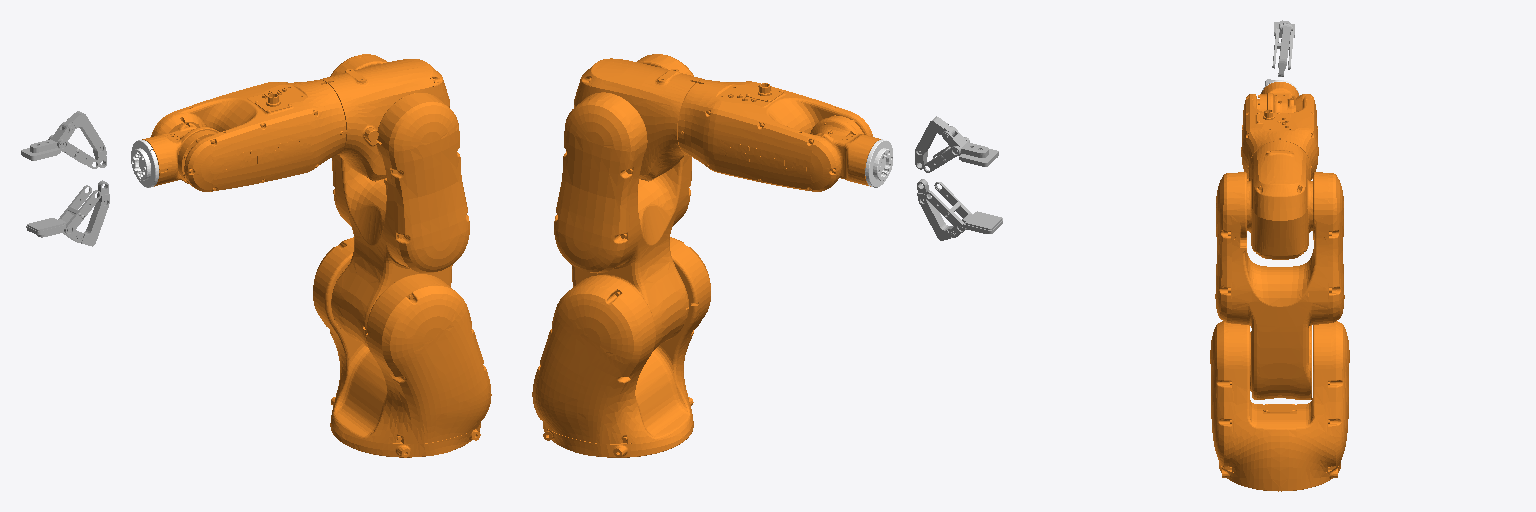
--- Render facts (derived) ---
3 views of the same robot in one strip: view 1: azimuth 30°, elevation 25°; view 2: azimuth 150°, elevation 25°; view 3: azimuth 270°, elevation 25° (orthographic).
Robot: LR4_R560 — 16 links, 15 joints (12 revolute, 3 fixed); root link robot_base; default pose: all joints at 0.
Visible links, largest first — view 1: LR4_R560_link2_respondable, LR4_R560_link3_respondable, LR4_R560_link5_respondable, LR4_R560_link4_respondable, LR4_R560_link6_respondable, LR4_R560_link7_respondable, left_inner_knuckle_respondable, left_outer_knuckle_respondable, right_finger_respondable, right_outer_knuckle_respondable, left_finger_respondable; view 2: LR4_R560_link2_respondable, LR4_R560_link3_respondable, LR4_R560_link5_respondable, LR4_R560_link4_respondable, LR4_R560_link6_respondable, LR4_R560_link7_respondable, right_finger_respondable, left_inner_knuckle_respondable, left_outer_knuckle_respondable, right_outer_knuckle_respondable, left_finger_respondable; view 3: LR4_R560_link3_respondable, LR4_R560_link2_respondable, LR4_R560_link4_respondable, LR4_R560_link5_respondable, LR4_R560_link6_respondable.
Link boxes in pixels (<box>): LR4_R560_link2_respondable: <box>313,237,491,457</box>; LR4_R560_link3_respondable: <box>330,54,469,347</box>; LR4_R560_link5_respondable: <box>151,80,346,191</box>; LR4_R560_link4_respondable: <box>320,59,449,181</box>; LR4_R560_link6_respondable: <box>142,123,219,186</box>; LR4_R560_link7_respondable: <box>131,140,158,187</box>; left_inner_knuckle_respondable: <box>58,185,101,234</box>; left_outer_knuckle_respondable: <box>71,180,109,246</box>; right_finger_respondable: <box>21,122,74,160</box>; right_outer_knuckle_respondable: <box>62,111,106,167</box>; left_finger_respondable: <box>26,218,82,242</box>; LR4_R560_link2_respondable: <box>532,237,710,457</box>; LR4_R560_link3_respondable: <box>554,54,693,350</box>; LR4_R560_link5_respondable: <box>678,80,872,191</box>; LR4_R560_link4_respondable: <box>574,58,704,181</box>; LR4_R560_link6_respondable: <box>810,115,880,186</box>; LR4_R560_link7_respondable: <box>865,139,892,187</box>; right_finger_respondable: <box>942,126,998,166</box>; left_inner_knuckle_respondable: <box>925,182,972,232</box>; left_outer_knuckle_respondable: <box>917,179,953,240</box>; right_outer_knuckle_respondable: <box>915,116,954,169</box>; left_finger_respondable: <box>949,211,1002,237</box>; LR4_R560_link3_respondable: <box>1215,172,1344,399</box>; LR4_R560_link2_respondable: <box>1210,321,1349,491</box>; LR4_R560_link4_respondable: <box>1247,141,1312,259</box>; LR4_R560_link5_respondable: <box>1241,94,1318,179</box>; LR4_R560_link6_respondable: <box>1258,82,1298,112</box>.
Bounding box of the posed robot: 0.6373 × 0.2109 × 0.5361 m (x, y, z).
12 mesh visuals loaded from 14 distinct referenced files (12 Collada DAE); not drawn: 2 (reference not matched to a file when rendering).

robot.urdf — LR4_R560:
<?xml version="1.0"?>
<robot name="LR4_R560">
    <link name="robot_base">
        <collision name="LR4_R560">
            <origin xyz="-0.000000 -0.000000 -0.000000" rpy="-3.141593 3.141593 -3.141593" />
            <geometry>
                <mesh filename="../meshes/linkhou_robot_base_coll_1.dae" />
            </geometry>
        </collision>
        <collision name="LR4_R560">
            <origin xyz="-0.000000 -0.000000 -0.000000" rpy="-3.141593 3.141593 -3.141593" />
            <geometry>
                <mesh filename="../meshes/linkhou_robot_base_coll_2.dae" />
            </geometry>
        </collision>
        <collision name="LR4_R560">
            <origin xyz="-0.000000 -0.000000 -0.000000" rpy="-3.141593 3.141593 -3.141593" />
            <geometry>
                <mesh filename="../meshes/linkhou_robot_base_coll_3.dae" />
            </geometry>
        </collision>
        <collision name="LR4_R560">
            <origin xyz="-0.000000 -0.000000 -0.000000" rpy="-3.141593 3.141593 -3.141593" />
            <geometry>
                <mesh filename="../meshes/linkhou_robot_base_coll_4.dae" />
            </geometry>
        </collision>
        <collision name="LR4_R560">
            <origin xyz="-0.000000 -0.000000 -0.000000" rpy="-3.141593 3.141593 -3.141593" />
            <geometry>
                <mesh filename="../meshes/linkhou_robot_base_coll_5.dae" />
            </geometry>
        </collision>
        <collision name="LR4_R560">
            <origin xyz="-0.000000 -0.000000 -0.000000" rpy="-3.141593 3.141593 -3.141593" />
            <geometry>
                <mesh filename="../meshes/linkhou_robot_base_coll_6.dae" />
            </geometry>
        </collision>
        <collision name="LR4_R560">
            <origin xyz="-0.000000 -0.000000 -0.000000" rpy="-3.141593 3.141593 -3.141593" />
            <geometry>
                <mesh filename="../meshes/linkhou_robot_base_coll_7.dae" />
            </geometry>
        </collision>
        <collision name="LR4_R560">
            <origin xyz="-0.000000 -0.000000 -0.000000" rpy="-3.141593 3.141593 -3.141593" />
            <geometry>
                <mesh filename="../meshes/linkhou_robot_base_coll_8.dae" />
            </geometry>
        </collision>
        <collision name="LR4_R560">
            <origin xyz="-0.000000 -0.000000 -0.000000" rpy="-3.141593 3.141593 -3.141593" />
            <geometry>
                <mesh filename="../meshes/linkhou_robot_base_coll_9.dae" />
            </geometry>
        </collision>
        <collision name="LR4_R560">
            <origin xyz="-0.000000 -0.000000 -0.000000" rpy="-3.141593 3.141593 -3.141593" />
            <geometry>
                <mesh filename="../meshes/linkhou_robot_base_coll_10.dae" />
            </geometry>
        </collision>
        <collision name="LR4_R560">
            <origin xyz="-0.000000 -0.000000 -0.000000" rpy="-3.141593 3.141593 -3.141593" />
            <geometry>
                <mesh filename="../meshes/linkhou_robot_base_coll_11.dae" />
            </geometry>
        </collision>
        <collision name="LR4_R560">
            <origin xyz="-0.000000 -0.000000 -0.000000" rpy="-3.141593 3.141593 -3.141593" />
            <geometry>
                <mesh filename="../meshes/linkhou_robot_base_coll_12.dae" />
            </geometry>
        </collision>
        <collision name="LR4_R560">
            <origin xyz="-0.000000 -0.000000 -0.000000" rpy="-3.141593 3.141593 -3.141593" />
            <geometry>
                <mesh filename="../meshes/linkhou_robot_base_coll_13.dae" />
            </geometry>
        </collision>
        <collision name="LR4_R560">
            <origin xyz="-0.000000 -0.000000 -0.000000" rpy="-3.141593 3.141593 -3.141593" />
            <geometry>
                <mesh filename="../meshes/linkhou_robot_base_coll_14.dae" />
            </geometry>
        </collision>
        <collision name="LR4_R560">
            <origin xyz="-0.000000 -0.000000 -0.000000" rpy="-3.141593 3.141593 -3.141593" />
            <geometry>
                <mesh filename="../meshes/linkhou_robot_base_coll_15.dae" />
            </geometry>
        </collision>
        <collision name="LR4_R560">
            <origin xyz="-0.000000 -0.000000 -0.000000" rpy="-3.141593 3.141593 -3.141593" />
            <geometry>
                <mesh filename="../meshes/linkhou_robot_base_coll_16.dae" />
            </geometry>
        </collision>
        <collision name="LR4_R560">
            <origin xyz="-0.000000 -0.000000 -0.000000" rpy="-3.141593 3.141593 -3.141593" />
            <geometry>
                <mesh filename="../meshes/linkhou_robot_base_coll_17.dae" />
            </geometry>
        </collision>
        <collision name="LR4_R560">
            <origin xyz="-0.000000 -0.000000 -0.000000" rpy="-3.141593 3.141593 -3.141593" />
            <geometry>
                <mesh filename="../meshes/linkhou_robot_base_coll_18.dae" />
            </geometry>
        </collision>
        <collision name="LR4_R560">
            <origin xyz="-0.000000 -0.000000 -0.000000" rpy="-3.141593 3.141593 -3.141593" />
            <geometry>
                <mesh filename="../meshes/linkhou_robot_base_coll_19.dae" />
            </geometry>
        </collision>
        <collision name="LR4_R560">
            <origin xyz="-0.000000 -0.000000 -0.000000" rpy="-3.141593 3.141593 -3.141593" />
            <geometry>
                <mesh filename="../meshes/linkhou_robot_base_coll_20.dae" />
            </geometry>
        </collision>
        <collision name="LR4_R560">
            <origin xyz="-0.000000 -0.000000 -0.000000" rpy="-3.141593 3.141593 -3.141593" />
            <geometry>
                <mesh filename="../meshes/linkhou_robot_base_coll_21.dae" />
            </geometry>
        </collision>
        <collision name="LR4_R560">
            <origin xyz="-0.000000 -0.000000 -0.000000" rpy="-3.141593 3.141593 -3.141593" />
            <geometry>
                <mesh filename="../meshes/linkhou_robot_base_coll_22.dae" />
            </geometry>
        </collision>
        <collision name="LR4_R560">
            <origin xyz="-0.000000 -0.000000 -0.000000" rpy="-3.141593 3.141593 -3.141593" />
            <geometry>
                <mesh filename="../meshes/linkhou_robot_base_coll_23.dae" />
            </geometry>
        </collision>
        <collision name="LR4_R560">
            <origin xyz="-0.000000 -0.000000 -0.000000" rpy="-3.141593 3.141593 -3.141593" />
            <geometry>
                <mesh filename="../meshes/linkhou_robot_base_coll_24.dae" />
            </geometry>
        </collision>
        <collision name="LR4_R560">
            <origin xyz="-0.000000 -0.000000 -0.000000" rpy="-3.141593 3.141593 -3.141593" />
            <geometry>
                <mesh filename="../meshes/linkhou_robot_base_coll_25.dae" />
            </geometry>
        </collision>
        <collision name="LR4_R560">
            <origin xyz="-0.000000 -0.000000 -0.000000" rpy="-3.141593 3.141593 -3.141593" />
            <geometry>
                <mesh filename="../meshes/linkhou_robot_base_coll_26.dae" />
            </geometry>
        </collision>
        <collision name="LR4_R560">
            <origin xyz="-0.000000 -0.000000 -0.000000" rpy="-3.141593 3.141593 -3.141593" />
            <geometry>
                <mesh filename="../meshes/linkhou_robot_base_coll_27.dae" />
            </geometry>
        </collision>
        <collision name="LR4_R560">
            <origin xyz="-0.000000 -0.000000 -0.000000" rpy="-3.141593 3.141593 -3.141593" />
            <geometry>
                <mesh filename="../meshes/linkhou_robot_base_coll_28.dae" />
            </geometry>
        </collision>
        <visual name="LR4_R560_link1_visual">
            <origin xyz="-0.000000 -0.000000 -0.000000" rpy="-3.141593 3.141593 -3.141593" />
            <geometry>
                <mesh filename="../meshes/linkhou_LR4_R560_link1_visual_vis_1.dae" />
            </geometry>
            <material name="LR4_R560_link1_visual_material">
                <color rgba="0.000000 0.000000 0.000000 1.0" />
            </material>
        </visual>
    </link>
    <joint name="LR4_R560_joint1" type="revolute">
        <axis xyz="0 0 1" />
        <parent link="robot_base" />
        <child link="LR4_R560_link2_respondable" />
        <origin xyz="0.090228 -0.000044 0.200573" rpy="-3.141589 3.141593 3.141593" />
        <limit 
            lower="-2.967"
            upper="2.967" 
            effort="23.0"
            velocity="7.255"/>
    </joint>
    <link name="LR4_R560_link2_respondable">
        <collision name="LR4_R560_link2_respondable">
            <origin xyz="-0.090228 0.000044 -0.200573" rpy="3.141589 3.141592 -3.141593" />
            <geometry>
                <mesh filename="../meshes/linkhou_LR4_R560_link2_respondable_coll_1.dae" />
            </geometry>
        </collision>
        <collision name="LR4_R560_link2_respondable">
            <origin xyz="-0.090228 0.000044 -0.200573" rpy="3.141589 3.141592 -3.141593" />
            <geometry>
                <mesh filename="../meshes/linkhou_LR4_R560_link2_respondable_coll_2.dae" />
            </geometry>
        </collision>
        <collision name="LR4_R560_link2_respondable">
            <origin xyz="-0.090228 0.000044 -0.200573" rpy="3.141589 3.141592 -3.141593" />
            <geometry>
                <mesh filename="../meshes/linkhou_LR4_R560_link2_respondable_coll_3.dae" />
            </geometry>
        </collision>
        <collision name="LR4_R560_link2_respondable">
            <origin xyz="-0.090228 0.000044 -0.200573" rpy="3.141589 3.141592 -3.141593" />
            <geometry>
                <mesh filename="../meshes/linkhou_LR4_R560_link2_respondable_coll_4.dae" />
            </geometry>
        </collision>
        <collision name="LR4_R560_link2_respondable">
            <origin xyz="-0.090228 0.000044 -0.200573" rpy="3.141589 3.141592 -3.141593" />
            <geometry>
                <mesh filename="../meshes/linkhou_LR4_R560_link2_respondable_coll_5.dae" />
            </geometry>
        </collision>
        <collision name="LR4_R560_link2_respondable">
            <origin xyz="-0.090228 0.000044 -0.200573" rpy="3.141589 3.141592 -3.141593" />
            <geometry>
                <mesh filename="../meshes/linkhou_LR4_R560_link2_respondable_coll_6.dae" />
            </geometry>
        </collision>
        <collision name="LR4_R560_link2_respondable">
            <origin xyz="-0.090228 0.000044 -0.200573" rpy="3.141589 3.141592 -3.141593" />
            <geometry>
                <mesh filename="../meshes/linkhou_LR4_R560_link2_respondable_coll_7.dae" />
            </geometry>
        </collision>
        <collision name="LR4_R560_link2_respondable">
            <origin xyz="-0.090228 0.000044 -0.200573" rpy="3.141589 3.141592 -3.141593" />
            <geometry>
                <mesh filename="../meshes/linkhou_LR4_R560_link2_respondable_coll_8.dae" />
            </geometry>
        </collision>
        <collision name="LR4_R560_link2_respondable">
            <origin xyz="-0.090228 0.000044 -0.200573" rpy="3.141589 3.141592 -3.141593" />
            <geometry>
                <mesh filename="../meshes/linkhou_LR4_R560_link2_respondable_coll_9.dae" />
            </geometry>
        </collision>
        <collision name="LR4_R560_link2_respondable">
            <origin xyz="-0.090228 0.000044 -0.200573" rpy="3.141589 3.141592 -3.141593" />
            <geometry>
                <mesh filename="../meshes/linkhou_LR4_R560_link2_respondable_coll_10.dae" />
            </geometry>
        </collision>
        <collision name="LR4_R560_link2_respondable">
            <origin xyz="-0.090228 0.000044 -0.200573" rpy="3.141589 3.141592 -3.141593" />
            <geometry>
                <mesh filename="../meshes/linkhou_LR4_R560_link2_respondable_coll_11.dae" />
            </geometry>
        </collision>
        <collision name="LR4_R560_link2_respondable">
            <origin xyz="-0.090228 0.000044 -0.200573" rpy="3.141589 3.141592 -3.141593" />
            <geometry>
                <mesh filename="../meshes/linkhou_LR4_R560_link2_respondable_coll_12.dae" />
            </geometry>
        </collision>
        <collision name="LR4_R560_link2_respondable">
            <origin xyz="-0.090228 0.000044 -0.200573" rpy="3.141589 3.141592 -3.141593" />
            <geometry>
                <mesh filename="../meshes/linkhou_LR4_R560_link2_respondable_coll_13.dae" />
            </geometry>
        </collision>
        <collision name="LR4_R560_link2_respondable">
            <origin xyz="-0.090228 0.000044 -0.200573" rpy="3.141589 3.141592 -3.141593" />
            <geometry>
                <mesh filename="../meshes/linkhou_LR4_R560_link2_respondable_coll_14.dae" />
            </geometry>
        </collision>
        <collision name="LR4_R560_link2_respondable">
            <origin xyz="-0.090228 0.000044 -0.200573" rpy="3.141589 3.141592 -3.141593" />
            <geometry>
                <mesh filename="../meshes/linkhou_LR4_R560_link2_respondable_coll_15.dae" />
            </geometry>
        </collision>
        <collision name="LR4_R560_link2_respondable">
            <origin xyz="-0.090228 0.000044 -0.200573" rpy="3.141589 3.141592 -3.141593" />
            <geometry>
                <mesh filename="../meshes/linkhou_LR4_R560_link2_respondable_coll_16.dae" />
            </geometry>
        </collision>
        <collision name="LR4_R560_link2_respondable">
            <origin xyz="-0.090228 0.000044 -0.200573" rpy="3.141589 3.141592 -3.141593" />
            <geometry>
                <mesh filename="../meshes/linkhou_LR4_R560_link2_respondable_coll_17.dae" />
            </geometry>
        </collision>
        <collision name="LR4_R560_link2_respondable">
            <origin xyz="-0.090228 0.000044 -0.200573" rpy="3.141589 3.141592 -3.141593" />
            <geometry>
                <mesh filename="../meshes/linkhou_LR4_R560_link2_respondable_coll_18.dae" />
            </geometry>
        </collision>
        <collision name="LR4_R560_link2_respondable">
            <origin xyz="-0.090228 0.000044 -0.200573" rpy="3.141589 3.141592 -3.141593" />
            <geometry>
                <mesh filename="../meshes/linkhou_LR4_R560_link2_respondable_coll_19.dae" />
            </geometry>
        </collision>
        <collision name="LR4_R560_link2_respondable">
            <origin xyz="-0.090228 0.000044 -0.200573" rpy="3.141589 3.141592 -3.141593" />
            <geometry>
                <mesh filename="../meshes/linkhou_LR4_R560_link2_respondable_coll_20.dae" />
            </geometry>
        </collision>
        <collision name="LR4_R560_link2_respondable">
            <origin xyz="-0.090228 0.000044 -0.200573" rpy="3.141589 3.141592 -3.141593" />
            <geometry>
                <mesh filename="../meshes/linkhou_LR4_R560_link2_respondable_coll_21.dae" />
            </geometry>
        </collision>
        <collision name="LR4_R560_link2_respondable">
            <origin xyz="-0.090228 0.000044 -0.200573" rpy="3.141589 3.141592 -3.141593" />
            <geometry>
                <mesh filename="../meshes/linkhou_LR4_R560_link2_respondable_coll_22.dae" />
            </geometry>
        </collision>
        <collision name="LR4_R560_link2_respondable">
            <origin xyz="-0.090228 0.000044 -0.200573" rpy="3.141589 3.141592 -3.141593" />
            <geometry>
                <mesh filename="../meshes/linkhou_LR4_R560_link2_respondable_coll_23.dae" />
            </geometry>
        </collision>
        <collision name="LR4_R560_link2_respondable">
            <origin xyz="-0.090228 0.000044 -0.200573" rpy="3.141589 3.141592 -3.141593" />
            <geometry>
                <mesh filename="../meshes/linkhou_LR4_R560_link2_respondable_coll_24.dae" />
            </geometry>
        </collision>
        <collision name="LR4_R560_link2_respondable">
            <origin xyz="-0.090228 0.000044 -0.200573" rpy="3.141589 3.141592 -3.141593" />
            <geometry>
                <mesh filename="../meshes/linkhou_LR4_R560_link2_respondable_coll_25.dae" />
            </geometry>
        </collision>
        <collision name="LR4_R560_link2_respondable">
            <origin xyz="-0.090228 0.000044 -0.200573" rpy="3.141589 3.141592 -3.141593" />
            <geometry>
                <mesh filename="../meshes/linkhou_LR4_R560_link2_respondable_coll_26.dae" />
            </geometry>
        </collision>
        <collision name="LR4_R560_link2_respondable">
            <origin xyz="-0.090228 0.000044 -0.200573" rpy="3.141589 3.141592 -3.141593" />
            <geometry>
                <mesh filename="../meshes/linkhou_LR4_R560_link2_respondable_coll_27.dae" />
            </geometry>
        </collision>
        <collision name="LR4_R560_link2_respondable">
            <origin xyz="-0.090228 0.000044 -0.200573" rpy="3.141589 3.141592 -3.141593" />
            <geometry>
                <mesh filename="../meshes/linkhou_LR4_R560_link2_respondable_coll_28.dae" />
            </geometry>
        </collision>
        <visual name="LR4_R560_link2_visual">
            <origin xyz="-0.090228 0.000044 -0.200573" rpy="3.141589 3.141592 -3.141593" />
            <geometry>
                <mesh filename="../meshes/linkhou_LR4_R560_link2_visual_vis_1.dae" />
            </geometry>
            <material name="LR4_R560_link2_visual_material">
                <color rgba="1.000000 0.600000 0.200000 1.0" />
            </material>
        </visual>
    </link>
    <joint name="LR4_R560_joint2" type="revolute">
        <axis xyz="0 0 1" />
        <parent link="LR4_R560_link2_respondable" />
        <child link="LR4_R560_link3_respondable" />
        <origin xyz="-0.020000 -0.000000 0.144500" rpy="-1.570800 3.141593 -3.141592" />
        <limit 
            lower="-2.495"
            upper="1.518"
            effort="23.0"
            velocity="7.255"/>  <!-- 416°/s = 7.255 rad/s -->
    </joint>
    <link name="LR4_R560_link3_respondable">
        <collision name="LR4_R560_link3_respondable">
            <origin xyz="-0.070228 -0.345073 -0.000045" rpy="1.570797 3.141593 3.141593" />
            <geometry>
                <mesh filename="../meshes/linkhou_LR4_R560_link3_respondable_coll_1.dae" />
            </geometry>
        </collision>
        <collision name="LR4_R560_link3_respondable">
            <origin xyz="-0.070228 -0.345073 -0.000045" rpy="1.570797 3.141593 3.141593" />
            <geometry>
                <mesh filename="../meshes/linkhou_LR4_R560_link3_respondable_coll_2.dae" />
            </geometry>
        </collision>
        <collision name="LR4_R560_link3_respondable">
            <origin xyz="-0.070228 -0.345073 -0.000045" rpy="1.570797 3.141593 3.141593" />
            <geometry>
                <mesh filename="../meshes/linkhou_LR4_R560_link3_respondable_coll_3.dae" />
            </geometry>
        </collision>
        <collision name="LR4_R560_link3_respondable">
            <origin xyz="-0.070228 -0.345073 -0.000045" rpy="1.570797 3.141593 3.141593" />
            <geometry>
                <mesh filename="../meshes/linkhou_LR4_R560_link3_respondable_coll_4.dae" />
            </geometry>
        </collision>
        <collision name="LR4_R560_link3_respondable">
            <origin xyz="-0.070228 -0.345073 -0.000045" rpy="1.570797 3.141593 3.141593" />
            <geometry>
                <mesh filename="../meshes/linkhou_LR4_R560_link3_respondable_coll_5.dae" />
            </geometry>
        </collision>
        <collision name="LR4_R560_link3_respondable">
            <origin xyz="-0.070228 -0.345073 -0.000045" rpy="1.570797 3.141593 3.141593" />
            <geometry>
                <mesh filename="../meshes/linkhou_LR4_R560_link3_respondable_coll_6.dae" />
            </geometry>
        </collision>
        <collision name="LR4_R560_link3_respondable">
            <origin xyz="-0.070228 -0.345073 -0.000045" rpy="1.570797 3.141593 3.141593" />
            <geometry>
                <mesh filename="../meshes/linkhou_LR4_R560_link3_respondable_coll_7.dae" />
            </geometry>
        </collision>
        <collision name="LR4_R560_link3_respondable">
            <origin xyz="-0.070228 -0.345073 -0.000045" rpy="1.570797 3.141593 3.141593" />
            <geometry>
                <mesh filename="../meshes/linkhou_LR4_R560_link3_respondable_coll_8.dae" />
            </geometry>
        </collision>
        <collision name="LR4_R560_link3_respondable">
            <origin xyz="-0.070228 -0.345073 -0.000045" rpy="1.570797 3.141593 3.141593" />
            <geometry>
                <mesh filename="../meshes/linkhou_LR4_R560_link3_respondable_coll_9.dae" />
            </geometry>
        </collision>
        <collision name="LR4_R560_link3_respondable">
            <origin xyz="-0.070228 -0.345073 -0.000045" rpy="1.570797 3.141593 3.141593" />
            <geometry>
                <mesh filename="../meshes/linkhou_LR4_R560_link3_respondable_coll_10.dae" />
            </geometry>
        </collision>
        <collision name="LR4_R560_link3_respondable">
            <origin xyz="-0.070228 -0.345073 -0.000045" rpy="1.570797 3.141593 3.141593" />
            <geometry>
                <mesh filename="../meshes/linkhou_LR4_R560_link3_respondable_coll_11.dae" />
            </geometry>
        </collision>
        <collision name="LR4_R560_link3_respondable">
            <origin xyz="-0.070228 -0.345073 -0.000045" rpy="1.570797 3.141593 3.141593" />
            <geometry>
                <mesh filename="../meshes/linkhou_LR4_R560_link3_respondable_coll_12.dae" />
            </geometry>
        </collision>
        <collision name="LR4_R560_link3_respondable">
            <origin xyz="-0.070228 -0.345073 -0.000045" rpy="1.570797 3.141593 3.141593" />
            <geometry>
                <mesh filename="../meshes/linkhou_LR4_R560_link3_respondable_coll_13.dae" />
            </geometry>
        </collision>
        <collision name="LR4_R560_link3_respondable">
            <origin xyz="-0.070228 -0.345073 -0.000045" rpy="1.570797 3.141593 3.141593" />
            <geometry>
                <mesh filename="../meshes/linkhou_LR4_R560_link3_respondable_coll_14.dae" />
            </geometry>
        </collision>
        <collision name="LR4_R560_link3_respondable">
            <origin xyz="-0.070228 -0.345073 -0.000045" rpy="1.570797 3.141593 3.141593" />
            <geometry>
                <mesh filename="../meshes/linkhou_LR4_R560_link3_respondable_coll_15.dae" />
            </geometry>
        </collision>
        <visual name="LR4_R560_link3_visual">
            <origin xyz="-0.070228 -0.345073 -0.000045" rpy="1.570797 3.141593 3.141593" />
            <geometry>
                <mesh filename="../meshes/linkhou_LR4_R560_link3_visual_vis_1.dae" />
            </geometry>
            <material name="LR4_R560_link3_visual_material">
                <color rgba="1.000000 0.600000 0.200000 1.0" />
            </material>
        </visual>
    </link>
    <joint name="LR4_R560_joint3" type="revolute">
        <axis xyz="0 0 1" />
        <parent link="LR4_R560_link3_respondable" />
        <child link="LR4_R560_link4_respondable" />
        <origin xyz="0.000000 0.260000 0.000000" rpy="-3.141592 3.141600 -0.000000" />
        <limit 
            lower="-3.577"
            upper="0.925"
            effort="20.7"
            velocity="8.062"/>  <!-- 462°/s = 8.062 rad/s -->
    </joint>
    <link name="LR4_R560_link4_respondable">
        <collision name="LR4_R560_link4_respondable">
            <origin xyz="0.070228 0.605073 -0.000046" rpy="1.570797 3.141600 0.000000" />
            <geometry>
                <mesh filename="../meshes/linkhou_LR4_R560_link4_respondable_coll_1.dae" />
            </geometry>
        </collision>
        <collision name="LR4_R560_link4_respondable">
            <origin xyz="0.070228 0.605073 -0.000046" rpy="1.570797 3.141600 0.000000" />
            <geometry>
                <mesh filename="../meshes/linkhou_LR4_R560_link4_respondable_coll_2.dae" />
            </geometry>
        </collision>
        <collision name="LR4_R560_link4_respondable">
            <origin xyz="0.070228 0.605073 -0.000046" rpy="1.570797 3.141600 0.000000" />
            <geometry>
                <mesh filename="../meshes/linkhou_LR4_R560_link4_respondable_coll_3.dae" />
            </geometry>
        </collision>
        <collision name="LR4_R560_link4_respondable">
            <origin xyz="0.070228 0.605073 -0.000046" rpy="1.570797 3.141600 0.000000" />
            <geometry>
                <mesh filename="../meshes/linkhou_LR4_R560_link4_respondable_coll_4.dae" />
            </geometry>
        </collision>
        <collision name="LR4_R560_link4_respondable">
            <origin xyz="0.070228 0.605073 -0.000046" rpy="1.570797 3.141600 0.000000" />
            <geometry>
                <mesh filename="../meshes/linkhou_LR4_R560_link4_respondable_coll_5.dae" />
            </geometry>
        </collision>
        <collision name="LR4_R560_link4_respondable">
            <origin xyz="0.070228 0.605073 -0.000046" rpy="1.570797 3.141600 0.000000" />
            <geometry>
                <mesh filename="../meshes/linkhou_LR4_R560_link4_respondable_coll_6.dae" />
            </geometry>
        </collision>
        <collision name="LR4_R560_link4_respondable">
            <origin xyz="0.070228 0.605073 -0.000046" rpy="1.570797 3.141600 0.000000" />
            <geometry>
                <mesh filename="../meshes/linkhou_LR4_R560_link4_respondable_coll_7.dae" />
            </geometry>
        </collision>
        <collision name="LR4_R560_link4_respondable">
            <origin xyz="0.070228 0.605073 -0.000046" rpy="1.570797 3.141600 0.000000" />
            <geometry>
                <mesh filename="../meshes/linkhou_LR4_R560_link4_respondable_coll_8.dae" />
            </geometry>
        </collision>
        <collision name="LR4_R560_link4_respondable">
            <origin xyz="0.070228 0.605073 -0.000046" rpy="1.570797 3.141600 0.000000" />
            <geometry>
                <mesh filename="../meshes/linkhou_LR4_R560_link4_respondable_coll_9.dae" />
            </geometry>
        </collision>
        <collision name="LR4_R560_link4_respondable">
            <origin xyz="0.070228 0.605073 -0.000046" rpy="1.570797 3.141600 0.000000" />
            <geometry>
                <mesh filename="../meshes/linkhou_LR4_R560_link4_respondable_coll_10.dae" />
            </geometry>
        </collision>
        <collision name="LR4_R560_link4_respondable">
            <origin xyz="0.070228 0.605073 -0.000046" rpy="1.570797 3.141600 0.000000" />
            <geometry>
                <mesh filename="../meshes/linkhou_LR4_R560_link4_respondable_coll_11.dae" />
            </geometry>
        </collision>
        <collision name="LR4_R560_link4_respondable">
            <origin xyz="0.070228 0.605073 -0.000046" rpy="1.570797 3.141600 0.000000" />
            <geometry>
                <mesh filename="../meshes/linkhou_LR4_R560_link4_respondable_coll_12.dae" />
            </geometry>
        </collision>
        <visual name="LR4_R560_link4_visual">
            <origin xyz="0.070228 0.605073 -0.000046" rpy="1.570797 3.141600 0.000000" />
            <geometry>
                <mesh filename="../meshes/linkhou_LR4_R560_link4_visual_vis_1.dae" />
            </geometry>
            <material name="LR4_R560_link4_visual_material">
                <color rgba="1.000000 0.600000 0.200000 1.0" />
            </material>
        </visual>
    </link>
    <joint name="LR4_R560_joint4" type="revolute">
        <axis xyz="0 0 1" />
        <parent link="LR4_R560_link4_respondable" />
        <child link="LR4_R560_link5_respondable" />
        <origin xyz="0.090184 -0.019152 0.000000" rpy="-1.570785 3.141592 -1.561411" />
        <limit 
            lower="-3.490"
            upper="3.490" 
            effort="16.3"
            velocity="8.727"/>  <!-- 500°/s = 8.727 rad/s -->
    </joint>
    <link name="LR4_R560_link5_respondable">
        <collision name="LR4_R560_link5_respondable">
            <origin xyz="0.624385 -0.000046 -0.014097" rpy="-0.000405 1.580182 3.141188" />
            <geometry>
                <mesh filename="../meshes/linkhou_LR4_R560_link5_respondable_coll_1.dae" />
            </geometry>
        </collision>
        <collision name="LR4_R560_link5_respondable">
            <origin xyz="0.624385 -0.000046 -0.014097" rpy="-0.000405 1.580182 3.141188" />
            <geometry>
                <mesh filename="../meshes/linkhou_LR4_R560_link5_respondable_coll_2.dae" />
            </geometry>
        </collision>
        <collision name="LR4_R560_link5_respondable">
            <origin xyz="0.624385 -0.000046 -0.014097" rpy="-0.000405 1.580182 3.141188" />
            <geometry>
                <mesh filename="../meshes/linkhou_LR4_R560_link5_respondable_coll_3.dae" />
            </geometry>
        </collision>
        <collision name="LR4_R560_link5_respondable">
            <origin xyz="0.624385 -0.000046 -0.014097" rpy="-0.000405 1.580182 3.141188" />
            <geometry>
                <mesh filename="../meshes/linkhou_LR4_R560_link5_respondable_coll_4.dae" />
            </geometry>
        </collision>
        <collision name="LR4_R560_link5_respondable">
            <origin xyz="0.624385 -0.000046 -0.014097" rpy="-0.000405 1.580182 3.141188" />
            <geometry>
                <mesh filename="../meshes/linkhou_LR4_R560_link5_respondable_coll_5.dae" />
            </geometry>
        </collision>
        <collision name="LR4_R560_link5_respondable">
            <origin xyz="0.624385 -0.000046 -0.014097" rpy="-0.000405 1.580182 3.141188" />
            <geometry>
                <mesh filename="../meshes/linkhou_LR4_R560_link5_respondable_coll_6.dae" />
            </geometry>
        </collision>
        <collision name="LR4_R560_link5_respondable">
            <origin xyz="0.624385 -0.000046 -0.014097" rpy="-0.000405 1.580182 3.141188" />
            <geometry>
                <mesh filename="../meshes/linkhou_LR4_R560_link5_respondable_coll_7.dae" />
            </geometry>
        </collision>
        <collision name="LR4_R560_link5_respondable">
            <origin xyz="0.624385 -0.000046 -0.014097" rpy="-0.000405 1.580182 3.141188" />
            <geometry>
                <mesh filename="../meshes/linkhou_LR4_R560_link5_respondable_coll_8.dae" />
            </geometry>
        </collision>
        <collision name="LR4_R560_link5_respondable">
            <origin xyz="0.624385 -0.000046 -0.014097" rpy="-0.000405 1.580182 3.141188" />
            <geometry>
                <mesh filename="../meshes/linkhou_LR4_R560_link5_respondable_coll_9.dae" />
            </geometry>
        </collision>
        <collision name="LR4_R560_link5_respondable">
            <origin xyz="0.624385 -0.000046 -0.014097" rpy="-0.000405 1.580182 3.141188" />
            <geometry>
                <mesh filename="../meshes/linkhou_LR4_R560_link5_respondable_coll_10.dae" />
            </geometry>
        </collision>
        <collision name="LR4_R560_link5_respondable">
            <origin xyz="0.624385 -0.000046 -0.014097" rpy="-0.000405 1.580182 3.141188" />
            <geometry>
                <mesh filename="../meshes/linkhou_LR4_R560_link5_respondable_coll_11.dae" />
            </geometry>
        </collision>
        <collision name="LR4_R560_link5_respondable">
            <origin xyz="0.624385 -0.000046 -0.014097" rpy="-0.000405 1.580182 3.141188" />
            <geometry>
                <mesh filename="../meshes/linkhou_LR4_R560_link5_respondable_coll_12.dae" />
            </geometry>
        </collision>
        <collision name="LR4_R560_link5_respondable">
            <origin xyz="0.624385 -0.000046 -0.014097" rpy="-0.000405 1.580182 3.141188" />
            <geometry>
                <mesh filename="../meshes/linkhou_LR4_R560_link5_respondable_coll_13.dae" />
            </geometry>
        </collision>
        <collision name="LR4_R560_link5_respondable">
            <origin xyz="0.624385 -0.000046 -0.014097" rpy="-0.000405 1.580182 3.141188" />
            <geometry>
                <mesh filename="../meshes/linkhou_LR4_R560_link5_respondable_coll_14.dae" />
            </geometry>
        </collision>
        <visual name="LR4_R560_link5_visual">
            <origin xyz="0.624385 -0.000046 -0.014097" rpy="-0.000405 1.580182 3.141188" />
            <geometry>
                <mesh filename="../meshes/linkhou_LR4_R560_link5_visual_vis_1.dae" />
            </geometry>
            <material name="LR4_R560_link5_visual_material">
                <color rgba="1.000000 0.600000 0.200000 1.0" />
            </material>
        </visual>
    </link>
    <joint name="LR4_R560_joint5" type="revolute">
        <axis xyz="0 0 1" />
        <parent link="LR4_R560_link5_respondable" />
        <child link="LR4_R560_link6_respondable" />
        <origin xyz="0.000002 0.000000 0.190000" rpy="-1.570471 1.580184 -3.141265" />
        <limit 
            lower="-2.181"
            upper="2.181" 
            effort="17.1"
            velocity="9.774"/>  <!-- 560°/s = 9.774 rad/s -->
    </joint>
    <link name="LR4_R560_link6_respondable">
        <collision name="LR4_R560_link6_respondable">
            <origin xyz="0.209950 0.622439 0.000048" rpy="-1.570793 3.141600 3.141590" />
            <geometry>
                <mesh filename="../meshes/linkhou_LR4_R560_link6_respondable_coll_1.dae" />
            </geometry>
        </collision>
        <collision name="LR4_R560_link6_respondable">
            <origin xyz="0.209950 0.622439 0.000048" rpy="-1.570793 3.141600 3.141590" />
            <geometry>
                <mesh filename="../meshes/linkhou_LR4_R560_link6_respondable_coll_2.dae" />
            </geometry>
        </collision>
        <collision name="LR4_R560_link6_respondable">
            <origin xyz="0.209950 0.622439 0.000048" rpy="-1.570793 3.141600 3.141590" />
            <geometry>
                <mesh filename="../meshes/linkhou_LR4_R560_link6_respondable_coll_3.dae" />
            </geometry>
        </collision>
        <collision name="LR4_R560_link6_respondable">
            <origin xyz="0.209950 0.622439 0.000048" rpy="-1.570793 3.141600 3.141590" />
            <geometry>
                <mesh filename="../meshes/linkhou_LR4_R560_link6_respondable_coll_4.dae" />
            </geometry>
        </collision>
        <collision name="LR4_R560_link6_respondable">
            <origin xyz="0.209950 0.622439 0.000048" rpy="-1.570793 3.141600 3.141590" />
            <geometry>
                <mesh filename="../meshes/linkhou_LR4_R560_link6_respondable_coll_5.dae" />
            </geometry>
        </collision>
        <collision name="LR4_R560_link6_respondable">
            <origin xyz="0.209950 0.622439 0.000048" rpy="-1.570793 3.141600 3.141590" />
            <geometry>
                <mesh filename="../meshes/linkhou_LR4_R560_link6_respondable_coll_6.dae" />
            </geometry>
        </collision>
        <collision name="LR4_R560_link6_respondable">
            <origin xyz="0.209950 0.622439 0.000048" rpy="-1.570793 3.141600 3.141590" />
            <geometry>
                <mesh filename="../meshes/linkhou_LR4_R560_link6_respondable_coll_7.dae" />
            </geometry>
        </collision>
        <collision name="LR4_R560_link6_respondable">
            <origin xyz="0.209950 0.622439 0.000048" rpy="-1.570793 3.141600 3.141590" />
            <geometry>
                <mesh filename="../meshes/linkhou_LR4_R560_link6_respondable_coll_8.dae" />
            </geometry>
        </collision>
        <collision name="LR4_R560_link6_respondable">
            <origin xyz="0.209950 0.622439 0.000048" rpy="-1.570793 3.141600 3.141590" />
            <geometry>
                <mesh filename="../meshes/linkhou_LR4_R560_link6_respondable_coll_9.dae" />
            </geometry>
        </collision>
        <collision name="LR4_R560_link6_respondable">
            <origin xyz="0.209950 0.622439 0.000048" rpy="-1.570793 3.141600 3.141590" />
            <geometry>
                <mesh filename="../meshes/linkhou_LR4_R560_link6_respondable_coll_10.dae" />
            </geometry>
        </collision>
        <collision name="LR4_R560_link6_respondable">
            <origin xyz="0.209950 0.622439 0.000048" rpy="-1.570793 3.141600 3.141590" />
            <geometry>
                <mesh filename="../meshes/linkhou_LR4_R560_link6_respondable_coll_11.dae" />
            </geometry>
        </collision>
        <collision name="LR4_R560_link6_respondable">
            <origin xyz="0.209950 0.622439 0.000048" rpy="-1.570793 3.141600 3.141590" />
            <geometry>
                <mesh filename="../meshes/linkhou_LR4_R560_link6_respondable_coll_12.dae" />
            </geometry>
        </collision>
        <collision name="LR4_R560_link6_respondable">
            <origin xyz="0.209950 0.622439 0.000048" rpy="-1.570793 3.141600 3.141590" />
            <geometry>
                <mesh filename="../meshes/linkhou_LR4_R560_link6_respondable_coll_13.dae" />
            </geometry>
        </collision>
        <collision name="LR4_R560_link6_respondable">
            <origin xyz="0.209950 0.622439 0.000048" rpy="-1.570793 3.141600 3.141590" />
            <geometry>
                <mesh filename="../meshes/linkhou_LR4_R560_link6_respondable_coll_14.dae" />
            </geometry>
        </collision>
        <collision name="LR4_R560_link6_respondable">
            <origin xyz="0.209950 0.622439 0.000048" rpy="-1.570793 3.141600 3.141590" />
            <geometry>
                <mesh filename="../meshes/linkhou_LR4_R560_link6_respondable_coll_15.dae" />
            </geometry>
        </collision>
        <collision name="LR4_R560_link6_respondable">
            <origin xyz="0.209950 0.622439 0.000048" rpy="-1.570793 3.141600 3.141590" />
            <geometry>
                <mesh filename="../meshes/linkhou_LR4_R560_link6_respondable_coll_16.dae" />
            </geometry>
        </collision>
        <collision name="LR4_R560_link6_respondable">
            <origin xyz="0.209950 0.622439 0.000048" rpy="-1.570793 3.141600 3.141590" />
            <geometry>
                <mesh filename="../meshes/linkhou_LR4_R560_link6_respondable_coll_17.dae" />
            </geometry>
        </collision>
        <collision name="LR4_R560_link6_respondable">
            <origin xyz="0.209950 0.622439 0.000048" rpy="-1.570793 3.141600 3.141590" />
            <geometry>
                <mesh filename="../meshes/linkhou_LR4_R560_link6_respondable_coll_18.dae" />
            </geometry>
        </collision>
        <collision name="LR4_R560_link6_respondable">
            <origin xyz="0.209950 0.622439 0.000048" rpy="-1.570793 3.141600 3.141590" />
            <geometry>
                <mesh filename="../meshes/linkhou_LR4_R560_link6_respondable_coll_19.dae" />
            </geometry>
        </collision>
        <collision name="LR4_R560_link6_respondable">
            <origin xyz="0.209950 0.622439 0.000048" rpy="-1.570793 3.141600 3.141590" />
            <geometry>
                <mesh filename="../meshes/linkhou_LR4_R560_link6_respondable_coll_20.dae" />
            </geometry>
        </collision>
        <collision name="LR4_R560_link6_respondable">
            <origin xyz="0.209950 0.622439 0.000048" rpy="-1.570793 3.141600 3.141590" />
            <geometry>
                <mesh filename="../meshes/linkhou_LR4_R560_link6_respondable_coll_21.dae" />
            </geometry>
        </collision>
        <collision name="LR4_R560_link6_respondable">
            <origin xyz="0.209950 0.622439 0.000048" rpy="-1.570793 3.141600 3.141590" />
            <geometry>
                <mesh filename="../meshes/linkhou_LR4_R560_link6_respondable_coll_22.dae" />
            </geometry>
        </collision>
        <collision name="LR4_R560_link6_respondable">
            <origin xyz="0.209950 0.622439 0.000048" rpy="-1.570793 3.141600 3.141590" />
            <geometry>
                <mesh filename="../meshes/linkhou_LR4_R560_link6_respondable_coll_23.dae" />
            </geometry>
        </collision>
        <collision name="LR4_R560_link6_respondable">
            <origin xyz="0.209950 0.622439 0.000048" rpy="-1.570793 3.141600 3.141590" />
            <geometry>
                <mesh filename="../meshes/linkhou_LR4_R560_link6_respondable_coll_24.dae" />
            </geometry>
        </collision>
        <collision name="LR4_R560_link6_respondable">
            <origin xyz="0.209950 0.622439 0.000048" rpy="-1.570793 3.141600 3.141590" />
            <geometry>
                <mesh filename="../meshes/linkhou_LR4_R560_link6_respondable_coll_25.dae" />
            </geometry>
        </collision>
        <collision name="LR4_R560_link6_respondable">
            <origin xyz="0.209950 0.622439 0.000048" rpy="-1.570793 3.141600 3.141590" />
            <geometry>
                <mesh filename="../meshes/linkhou_LR4_R560_link6_respondable_coll_26.dae" />
            </geometry>
        </collision>
        <collision name="LR4_R560_link6_respondable">
            <origin xyz="0.209950 0.622439 0.000048" rpy="-1.570793 3.141600 3.141590" />
            <geometry>
                <mesh filename="../meshes/linkhou_LR4_R560_link6_respondable_coll_27.dae" />
            </geometry>
        </collision>
        <collision name="LR4_R560_link6_respondable">
            <origin xyz="0.209950 0.622439 0.000048" rpy="-1.570793 3.141600 3.141590" />
            <geometry>
                <mesh filename="../meshes/linkhou_LR4_R560_link6_respondable_coll_28.dae" />
            </geometry>
        </collision>
        <collision name="LR4_R560_link6_respondable">
            <origin xyz="0.209950 0.622439 0.000048" rpy="-1.570793 3.141600 3.141590" />
            <geometry>
                <mesh filename="../meshes/linkhou_LR4_R560_link6_respondable_coll_29.dae" />
            </geometry>
        </collision>
        <collision name="LR4_R560_link6_respondable">
            <origin xyz="0.209950 0.622439 0.000048" rpy="-1.570793 3.141600 3.141590" />
            <geometry>
                <mesh filename="../meshes/linkhou_LR4_R560_link6_respondable_coll_30.dae" />
            </geometry>
        </collision>
        <collision name="LR4_R560_link6_respondable">
            <origin xyz="0.209950 0.622439 0.000048" rpy="-1.570793 3.141600 3.141590" />
            <geometry>
                <mesh filename="../meshes/linkhou_LR4_R560_link6_respondable_coll_31.dae" />
            </geometry>
        </collision>
        <collision name="LR4_R560_link6_respondable">
            <origin xyz="0.209950 0.622439 0.000048" rpy="-1.570793 3.141600 3.141590" />
            <geometry>
                <mesh filename="../meshes/linkhou_LR4_R560_link6_respondable_coll_32.dae" />
            </geometry>
        </collision>
        <collision name="LR4_R560_link6_respondable">
            <origin xyz="0.209950 0.622439 0.000048" rpy="-1.570793 3.141600 3.141590" />
            <geometry>
                <mesh filename="../meshes/linkhou_LR4_R560_link6_respondable_coll_33.dae" />
            </geometry>
        </collision>
        <collision name="LR4_R560_link6_respondable">
            <origin xyz="0.209950 0.622439 0.000048" rpy="-1.570793 3.141600 3.141590" />
            <geometry>
                <mesh filename="../meshes/linkhou_LR4_R560_link6_respondable_coll_34.dae" />
            </geometry>
        </collision>
        <collision name="LR4_R560_link6_respondable">
            <origin xyz="0.209950 0.622439 0.000048" rpy="-1.570793 3.141600 3.141590" />
            <geometry>
                <mesh filename="../meshes/linkhou_LR4_R560_link6_respondable_coll_35.dae" />
            </geometry>
        </collision>
        <collision name="LR4_R560_link6_respondable">
            <origin xyz="0.209950 0.622439 0.000048" rpy="-1.570793 3.141600 3.141590" />
            <geometry>
                <mesh filename="../meshes/linkhou_LR4_R560_link6_respondable_coll_36.dae" />
            </geometry>
        </collision>
        <collision name="LR4_R560_link6_respondable">
            <origin xyz="0.209950 0.622439 0.000048" rpy="-1.570793 3.141600 3.141590" />
            <geometry>
                <mesh filename="../meshes/linkhou_LR4_R560_link6_respondable_coll_37.dae" />
            </geometry>
        </collision>
        <collision name="LR4_R560_link6_respondable">
            <origin xyz="0.209950 0.622439 0.000048" rpy="-1.570793 3.141600 3.141590" />
            <geometry>
                <mesh filename="../meshes/linkhou_LR4_R560_link6_respondable_coll_38.dae" />
            </geometry>
        </collision>
        <visual name="LR4_R560_link6_visual">
            <origin xyz="0.209950 0.622439 0.000048" rpy="-1.570793 3.141600 3.141590" />
            <geometry>
                <mesh filename="../meshes/linkhou_LR4_R560_link6_visual_vis_1.dae" />
            </geometry>
            <material name="LR4_R560_link6_visual_material">
                <color rgba="1.000000 0.600000 0.200000 1.0" />
            </material>
        </visual>
    </link>
    <joint name="LR4_R560_joint6" type="revolute">
        <axis xyz="0 0 1" />
        <parent link="LR4_R560_link6_respondable" />
        <child link="LR4_R560_link7_respondable" />
        <origin xyz="-0.066997 0.000631 -0.000000" rpy="1.570791 2.181661 -1.580196" />
        <limit 
            lower="-6.283"
            upper="6.283" 
            effort="13.0"
            velocity="12.915"/> <!-- 740°/s = 12.915 rad/s -->
    </joint>
    <link name="LR4_R560_link7_respondable">
        <collision name="LR4_R560_link7_respondable">
            <origin xyz="0.358092 -0.511492 -0.271093" rpy="-0.000392 1.580189 2.181266" />
            <geometry>
                <mesh filename="../meshes/linkhou_LR4_R560_link7_respondable_coll_1.dae" />
            </geometry>
        </collision>
        <collision name="LR4_R560_link7_respondable">
            <origin xyz="0.358092 -0.511492 -0.271093" rpy="-0.000392 1.580189 2.181266" />
            <geometry>
                <mesh filename="../meshes/linkhou_LR4_R560_link7_respondable_coll_2.dae" />
            </geometry>
        </collision>
        <collision name="LR4_R560_link7_respondable">
            <origin xyz="0.358092 -0.511492 -0.271093" rpy="-0.000392 1.580189 2.181266" />
            <geometry>
                <mesh filename="../meshes/linkhou_LR4_R560_link7_respondable_coll_3.dae" />
            </geometry>
        </collision>
        <collision name="LR4_R560_link7_respondable">
            <origin xyz="0.358092 -0.511492 -0.271093" rpy="-0.000392 1.580189 2.181266" />
            <geometry>
                <mesh filename="../meshes/linkhou_LR4_R560_link7_respondable_coll_4.dae" />
            </geometry>
        </collision>
        <collision name="LR4_R560_link7_respondable">
            <origin xyz="0.358092 -0.511492 -0.271093" rpy="-0.000392 1.580189 2.181266" />
            <geometry>
                <mesh filename="../meshes/linkhou_LR4_R560_link7_respondable_coll_5.dae" />
            </geometry>
        </collision>
        <collision name="LR4_R560_link7_respondable">
            <origin xyz="0.358092 -0.511492 -0.271093" rpy="-0.000392 1.580189 2.181266" />
            <geometry>
                <mesh filename="../meshes/linkhou_LR4_R560_link7_respondable_coll_6.dae" />
            </geometry>
        </collision>
        <collision name="LR4_R560_link7_respondable">
            <origin xyz="0.358092 -0.511492 -0.271093" rpy="-0.000392 1.580189 2.181266" />
            <geometry>
                <mesh filename="../meshes/linkhou_LR4_R560_link7_respondable_coll_7.dae" />
            </geometry>
        </collision>
        <collision name="LR4_R560_link7_respondable">
            <origin xyz="0.358092 -0.511492 -0.271093" rpy="-0.000392 1.580189 2.181266" />
            <geometry>
                <mesh filename="../meshes/linkhou_LR4_R560_link7_respondable_coll_8.dae" />
            </geometry>
        </collision>
        <collision name="LR4_R560_link7_respondable">
            <origin xyz="0.358092 -0.511492 -0.271093" rpy="-0.000392 1.580189 2.181266" />
            <geometry>
                <mesh filename="../meshes/linkhou_LR4_R560_link7_respondable_coll_9.dae" />
            </geometry>
        </collision>
        <collision name="LR4_R560_link7_respondable">
            <origin xyz="0.358092 -0.511492 -0.271093" rpy="-0.000392 1.580189 2.181266" />
            <geometry>
                <mesh filename="../meshes/linkhou_LR4_R560_link7_respondable_coll_10.dae" />
            </geometry>
        </collision>
        <collision name="LR4_R560_link7_respondable">
            <origin xyz="0.358092 -0.511492 -0.271093" rpy="-0.000392 1.580189 2.181266" />
            <geometry>
                <mesh filename="../meshes/linkhou_LR4_R560_link7_respondable_coll_11.dae" />
            </geometry>
        </collision>
        <collision name="LR4_R560_link7_respondable">
            <origin xyz="0.358092 -0.511492 -0.271093" rpy="-0.000392 1.580189 2.181266" />
            <geometry>
                <mesh filename="../meshes/linkhou_LR4_R560_link7_respondable_coll_12.dae" />
            </geometry>
        </collision>
        <collision name="LR4_R560_link7_respondable">
            <origin xyz="0.358092 -0.511492 -0.271093" rpy="-0.000392 1.580189 2.181266" />
            <geometry>
                <mesh filename="../meshes/linkhou_LR4_R560_link7_respondable_coll_13.dae" />
            </geometry>
        </collision>
        <collision name="LR4_R560_link7_respondable">
            <origin xyz="0.358092 -0.511492 -0.271093" rpy="-0.000392 1.580189 2.181266" />
            <geometry>
                <mesh filename="../meshes/linkhou_LR4_R560_link7_respondable_coll_14.dae" />
            </geometry>
        </collision>
        <collision name="LR4_R560_link7_respondable">
            <origin xyz="0.358092 -0.511492 -0.271093" rpy="-0.000392 1.580189 2.181266" />
            <geometry>
                <mesh filename="../meshes/linkhou_LR4_R560_link7_respondable_coll_15.dae" />
            </geometry>
        </collision>
        <collision name="LR4_R560_link7_respondable">
            <origin xyz="0.358092 -0.511492 -0.271093" rpy="-0.000392 1.580189 2.181266" />
            <geometry>
                <mesh filename="../meshes/linkhou_LR4_R560_link7_respondable_coll_16.dae" />
            </geometry>
        </collision>
        <collision name="LR4_R560_link7_respondable">
            <origin xyz="0.358092 -0.511492 -0.271093" rpy="-0.000392 1.580189 2.181266" />
            <geometry>
                <mesh filename="../meshes/linkhou_LR4_R560_link7_respondable_coll_17.dae" />
            </geometry>
        </collision>
        <collision name="LR4_R560_link7_respondable">
            <origin xyz="0.358092 -0.511492 -0.271093" rpy="-0.000392 1.580189 2.181266" />
            <geometry>
                <mesh filename="../meshes/linkhou_LR4_R560_link7_respondable_coll_18.dae" />
            </geometry>
        </collision>
        <collision name="LR4_R560_link7_respondable">
            <origin xyz="0.358092 -0.511492 -0.271093" rpy="-0.000392 1.580189 2.181266" />
            <geometry>
                <mesh filename="../meshes/linkhou_LR4_R560_link7_respondable_coll_19.dae" />
            </geometry>
        </collision>
        <collision name="LR4_R560_link7_respondable">
            <origin xyz="0.358092 -0.511492 -0.271093" rpy="-0.000392 1.580189 2.181266" />
            <geometry>
                <mesh filename="../meshes/linkhou_LR4_R560_link7_respondable_coll_20.dae" />
            </geometry>
        </collision>
        <collision name="LR4_R560_link7_respondable">
            <origin xyz="0.358092 -0.511492 -0.271093" rpy="-0.000392 1.580189 2.181266" />
            <geometry>
                <mesh filename="../meshes/linkhou_LR4_R560_link7_respondable_coll_21.dae" />
            </geometry>
        </collision>
        <collision name="LR4_R560_link7_respondable">
            <origin xyz="0.358092 -0.511492 -0.271093" rpy="-0.000392 1.580189 2.181266" />
            <geometry>
                <mesh filename="../meshes/linkhou_LR4_R560_link7_respondable_coll_22.dae" />
            </geometry>
        </collision>
        <collision name="LR4_R560_link7_respondable">
            <origin xyz="0.358092 -0.511492 -0.271093" rpy="-0.000392 1.580189 2.181266" />
            <geometry>
                <mesh filename="../meshes/linkhou_LR4_R560_link7_respondable_coll_23.dae" />
            </geometry>
        </collision>
        <collision name="LR4_R560_link7_respondable">
            <origin xyz="0.358092 -0.511492 -0.271093" rpy="-0.000392 1.580189 2.181266" />
            <geometry>
                <mesh filename="../meshes/linkhou_LR4_R560_link7_respondable_coll_24.dae" />
            </geometry>
        </collision>
        <collision name="LR4_R560_link7_respondable">
            <origin xyz="0.358092 -0.511492 -0.271093" rpy="-0.000392 1.580189 2.181266" />
            <geometry>
                <mesh filename="../meshes/linkhou_LR4_R560_link7_respondable_coll_25.dae" />
            </geometry>
        </collision>
        <collision name="LR4_R560_link7_respondable">
            <origin xyz="0.358092 -0.511492 -0.271093" rpy="-0.000392 1.580189 2.181266" />
            <geometry>
                <mesh filename="../meshes/linkhou_LR4_R560_link7_respondable_coll_26.dae" />
            </geometry>
        </collision>
        <collision name="LR4_R560_link7_respondable">
            <origin xyz="0.358092 -0.511492 -0.271093" rpy="-0.000392 1.580189 2.181266" />
            <geometry>
                <mesh filename="../meshes/linkhou_LR4_R560_link7_respondable_coll_27.dae" />
            </geometry>
        </collision>
        <collision name="LR4_R560_link7_respondable">
            <origin xyz="0.358092 -0.511492 -0.271093" rpy="-0.000392 1.580189 2.181266" />
            <geometry>
                <mesh filename="../meshes/linkhou_LR4_R560_link7_respondable_coll_28.dae" />
            </geometry>
        </collision>
        <collision name="LR4_R560_link7_respondable">
            <origin xyz="0.358092 -0.511492 -0.271093" rpy="-0.000392 1.580189 2.181266" />
            <geometry>
                <mesh filename="../meshes/linkhou_LR4_R560_link7_respondable_coll_29.dae" />
            </geometry>
        </collision>
        <collision name="LR4_R560_link7_respondable">
            <origin xyz="0.358092 -0.511492 -0.271093" rpy="-0.000392 1.580189 2.181266" />
            <geometry>
                <mesh filename="../meshes/linkhou_LR4_R560_link7_respondable_coll_30.dae" />
            </geometry>
        </collision>
        <collision name="LR4_R560_link7_respondable">
            <origin xyz="0.358092 -0.511492 -0.271093" rpy="-0.000392 1.580189 2.181266" />
            <geometry>
                <mesh filename="../meshes/linkhou_LR4_R560_link7_respondable_coll_31.dae" />
            </geometry>
        </collision>
        <collision name="LR4_R560_link7_respondable">
            <origin xyz="0.358092 -0.511492 -0.271093" rpy="-0.000392 1.580189 2.181266" />
            <geometry>
                <mesh filename="../meshes/linkhou_LR4_R560_link7_respondable_coll_32.dae" />
            </geometry>
        </collision>
        <collision name="LR4_R560_link7_respondable">
            <origin xyz="0.358092 -0.511492 -0.271093" rpy="-0.000392 1.580189 2.181266" />
            <geometry>
                <mesh filename="../meshes/linkhou_LR4_R560_link7_respondable_coll_33.dae" />
            </geometry>
        </collision>
        <collision name="LR4_R560_link7_respondable">
            <origin xyz="0.358092 -0.511492 -0.271093" rpy="-0.000392 1.580189 2.181266" />
            <geometry>
                <mesh filename="../meshes/linkhou_LR4_R560_link7_respondable_coll_34.dae" />
            </geometry>
        </collision>
        <collision name="LR4_R560_link7_respondable">
            <origin xyz="0.358092 -0.511492 -0.271093" rpy="-0.000392 1.580189 2.181266" />
            <geometry>
                <mesh filename="../meshes/linkhou_LR4_R560_link7_respondable_coll_35.dae" />
            </geometry>
        </collision>
        <collision name="LR4_R560_link7_respondable">
            <origin xyz="0.358092 -0.511492 -0.271093" rpy="-0.000392 1.580189 2.181266" />
            <geometry>
                <mesh filename="../meshes/linkhou_LR4_R560_link7_respondable_coll_36.dae" />
            </geometry>
        </collision>
        <collision name="LR4_R560_link7_respondable">
            <origin xyz="0.358092 -0.511492 -0.271093" rpy="-0.000392 1.580189 2.181266" />
            <geometry>
                <mesh filename="../meshes/linkhou_LR4_R560_link7_respondable_coll_37.dae" />
            </geometry>
        </collision>
        <visual name="LR4_R560_link7_visual">
            <origin xyz="0.358092 -0.511492 -0.271093" rpy="-0.000392 1.580189 2.181266" />
            <geometry>
                <mesh filename="../meshes/linkhou_LR4_R560_link7_visual_vis_1.dae" />
            </geometry>
            <material name="LR4_R560_link7_visual_material">
                <color rgba="1.000000 1.000000 1.000000 1.0" />
            </material>
        </visual>
    </link>
    <joint name="joint_eef" type="fixed">
        <axis xyz="0 0 1" />
        <parent link="LR4_R560_link7_respondable" />
        <child link="link_eef_visual" />
        <origin xyz="-0.000154 0.000131 0.005256" rpy="-2.316304 1.571449 1.567710" />
    </joint>
    <link name="link_eef_visual">
        <visual name="link_eef_visual">
            <origin xyz="0.000000 0.000000 0.000000" rpy="0.000000 -1.570796 0.000000" />
            <geometry>
                <box size="0.000500 0.000500 0.000500" />
            </geometry>
            <material name="link_eef_visual_material">
                <color rgba="1.000000 1.000000 1.000000 1.0" />
            </material>
        </visual>
    </link>
    <joint name="gripper_fix" type="fixed">
        <axis xyz="0 0 1" />
        <parent link="link_eef_visual" />
        <child link="xarm_gripper_base_link_respondable" />
        <origin xyz="0.000000 0.000000 0.000000" rpy="-3.141593 3.141593 -3.141593" />
    </joint>
    <link name="xarm_gripper_base_link_respondable">
        <collision name="xarm_gripper_base_link_respondable">
            <origin xyz="0.276682 0.619049 0.081805" rpy="-1.439237 3.142385 -3.132762" />
            <geometry>
                <mesh filename="../meshes/linkhou_xarm_gripper_base_link_respondable_coll_1.dae" />
            </geometry>
        </collision>
        <visual name="xarm_gripper_base_link_visual">
            <origin xyz="0.276682 0.619049 0.081805" rpy="-1.439237 3.142385 -3.132762" />
            <geometry>
                <mesh filename="../meshes/linkhou_xarm_gripper_base_link_visual_vis_1.dae" />
            </geometry>
            <material name="xarm_gripper_base_link_visual_material">
                <color rgba="1.000000 1.000000 1.000000 1.0" />
            </material>
        </visual>
    </link>
    <joint name="drive_joint" type="revolute">
        <axis xyz="0 0 1" />
        <limit upper="0.85" effort="50.0" velocity="2.0" lower="0.0" />
        <parent link="xarm_gripper_base_link_respondable" />
        <child link="left_outer_knuckle_respondable" />
        <origin xyz="-0.059098 0.035000 -0.000000" rpy="-3.141593 3.141593 3.141593" />
    </joint>
    <link name="left_outer_knuckle_respondable">
        <collision name="left_outer_knuckle_respondable">
            <origin xyz="0.335780 0.584049 0.081805" rpy="-1.439237 3.142385 -3.132762" />
            <geometry>
                <mesh filename="../meshes/linkhou_left_outer_knuckle_respondable_coll_1.dae" />
            </geometry>
        </collision>
        <visual name="left_outer_knuckle_visual">
            <origin xyz="0.335780 0.584049 0.081805" rpy="-1.439237 3.142385 -3.132762" />
            <geometry>
                <mesh filename="../meshes/linkhou_left_outer_knuckle_visual_vis_1.dae" />
            </geometry>
            <material name="left_outer_knuckle_visual_material">
                <color rgba="0.753000 0.753000 0.753000 1.0" />
            </material>
        </visual>
    </link>
    <joint name="left_finger_joint" type="revolute">
        <axis xyz="0 0 1" />
        <limit upper="0.85" effort="50.0" velocity="2.0" lower="0.0" />
        <parent link="left_outer_knuckle_respondable" />
        <child link="left_finger_respondable" />
        <origin xyz="-0.042039 0.035465 -0.000000" rpy="-0.000000 3.141593 -0.000000" />
    </joint>
    <link name="left_finger_respondable">
        <collision name="left_finger_respondable">
            <origin xyz="-0.377819 0.548584 -0.081805" rpy="1.702355 3.140800 -0.008831" />
            <geometry>
                <mesh filename="../meshes/linkhou_left_finger_respondable_coll_1.dae" />
            </geometry>
        </collision>
        <visual name="left_finger_visual">
            <origin xyz="-0.377819 0.548584 -0.081805" rpy="1.702355 3.140800 -0.008831" />
            <geometry>
                <mesh filename="../meshes/linkhou_left_finger_visual_vis_1.dae" />
            </geometry>
            <material name="left_finger_visual_material">
                <color rgba="0.753000 0.753000 0.753000 1.0" />
            </material>
        </visual>
    </link>
    <joint name="left_inner_knuckle_joint" type="revolute">
        <axis xyz="0 0 1" />
        <limit upper="0.85" effort="50.0" velocity="2.0" lower="0.0" />
        <parent link="xarm_gripper_base_link_respondable" />
        <child link="left_inner_knuckle_respondable" />
        <origin xyz="-0.074098 0.020000 -0.000000" rpy="-3.141593 3.141593 3.141593" />
    </joint>
    <link name="left_inner_knuckle_respondable">
        <collision name="left_inner_knuckle_respondable">
            <origin xyz="0.350780 0.599049 0.081805" rpy="-1.439237 3.142385 -3.132762" />
            <geometry>
                <mesh filename="../meshes/linkhou_left_inner_knuckle_respondable_coll_1.dae" />
            </geometry>
        </collision>
        <visual name="left_inner_knuckle_visual">
            <origin xyz="0.350780 0.599049 0.081805" rpy="-1.439237 3.142385 -3.132762" />
            <geometry>
                <mesh filename="../meshes/linkhou_left_inner_knuckle_visual_vis_1.dae" />
            </geometry>
            <material name="left_inner_knuckle_visual_material">
                <color rgba="0.753000 0.753000 0.753000 1.0" />
            </material>
        </visual>
    </link>
    <joint name="right_outer_knuckle_joint" type="revolute">
        <axis xyz="0 0 1" />
        <limit upper="0.85" effort="50.0" velocity="2.0" lower="0.0" />
        <parent link="xarm_gripper_base_link_respondable" />
        <child link="right_outer_knuckle_respondable" />
        <origin xyz="-0.059098 -0.035000 -0.000000" rpy="-0.000000 3.141593 -0.000000" />
    </joint>
    <link name="right_outer_knuckle_respondable">
        <collision name="right_outer_knuckle_respondable">
            <origin xyz="-0.335780 0.654049 -0.081805" rpy="1.702355 3.140800 -0.008831" />
            <geometry>
                <mesh filename="../meshes/linkhou_right_outer_knuckle_respondable_coll_1.dae" />
            </geometry>
        </collision>
        <visual name="right_outer_knuckle_visual">
            <origin xyz="-0.335780 0.654049 -0.081805" rpy="1.702355 3.140800 -0.008831" />
            <geometry>
                <mesh filename="../meshes/linkhou_right_outer_knuckle_visual_vis_1.dae" />
            </geometry>
            <material name="right_outer_knuckle_visual_material">
                <color rgba="0.753000 0.753000 0.753000 1.0" />
            </material>
        </visual>
    </link>
    <joint name="right_finger_joint" type="revolute">
        <axis xyz="0 0 1" />
        <limit upper="0.85" effort="50.0" velocity="2.0" lower="0.0" />
        <parent link="right_outer_knuckle_respondable" />
        <child link="right_finger_respondable" />
        <origin xyz="0.042039 -0.035465 -0.000000" rpy="-0.000000 3.141593 -0.000000" />
    </joint>
    <link name="right_finger_respondable">
        <collision name="right_finger_respondable">
            <origin xyz="0.377819 0.689514 0.081805" rpy="-1.439237 3.142385 -3.132762" />
            <geometry>
                <mesh filename="../meshes/linkhou_right_finger_respondable_coll_1.dae" />
            </geometry>
        </collision>
        <visual name="right_finger_visual">
            <origin xyz="0.377819 0.689514 0.081805" rpy="-1.439237 3.142385 -3.132762" />
            <geometry>
                <mesh filename="../meshes/linkhou_right_finger_visual_vis_1.dae" />
            </geometry>
            <material name="right_finger_visual_material">
                <color rgba="0.753000 0.753000 0.753000 1.0" />
            </material>
        </visual>
    </link>
    <joint name="right_inner_knuckle_joint" type="revolute">
        <axis xyz="0 0 1" />
        <limit upper="0.85" effort="50.0" velocity="2.0" lower="0.0" />
        <parent link="xarm_gripper_base_link_respondable" />
        <child link="right_inner_knuckle_respondable" />
        <origin xyz="-0.074098 -0.020000 -0.000000" rpy="-0.000000 3.141593 -0.000000" />
    </joint>
    <link name="right_inner_knuckle_respondable">
        <collision name="right_inner_knuckle_respondable">
            <origin xyz="-0.350780 0.639049 -0.081805" rpy="1.702355 3.140800 -0.008831" />
            <geometry>
                <mesh filename="../meshes/linkhou_right_inner_knuckle_respondable_coll_1.dae" />
            </geometry>
        </collision>
        <visual name="right_inner_knuckle_visual">
            <origin xyz="-0.350780 0.639049 -0.081805" rpy="1.702355 3.140800 -0.008831" />
            <geometry>
                <mesh filename="../meshes/linkhou_right_inner_knuckle_visual_vis_1.dae" />
            </geometry>
            <material name="right_inner_knuckle_visual_material">
                <color rgba="0.753000 0.753000 0.753000 1.0" />
            </material>
        </visual>
    </link>
    <joint name="joint_tcp" type="fixed">
        <axis xyz="0 0 1" />
        <parent link="xarm_gripper_base_link_respondable" />
        <child link="link_tcp_visual" />
        <origin xyz="-0.172000 0.000000 -0.000000" rpy="-3.141593 3.141593 3.141593" />
    </joint>
    <link name="link_tcp_visual">
        <visual name="link_tcp_visual">
            <origin xyz="0.000000 0.000000 0.000000" rpy="0.000000 -1.570796 0.000000" />
            <geometry>
                <box size="0.000500 0.000500 0.000500" />
            </geometry>
            <material name="link_tcp_visual_material">
                <color rgba="1.000000 1.000000 1.000000 1.0" />
            </material>
        </visual>
    </link>
</robot>
